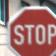Stop sign: (0, 0, 55, 55)
